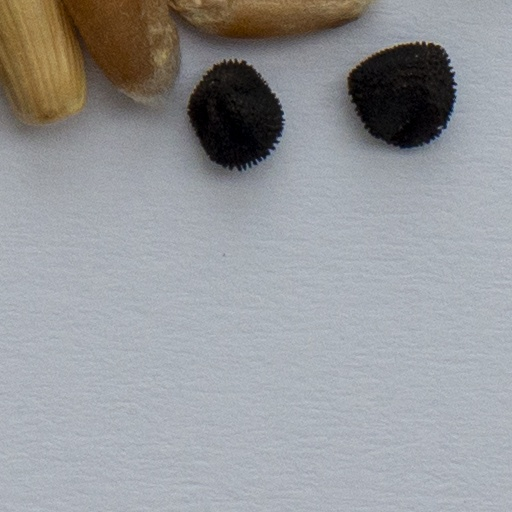Peel-poly: (0, 0, 84, 123)
